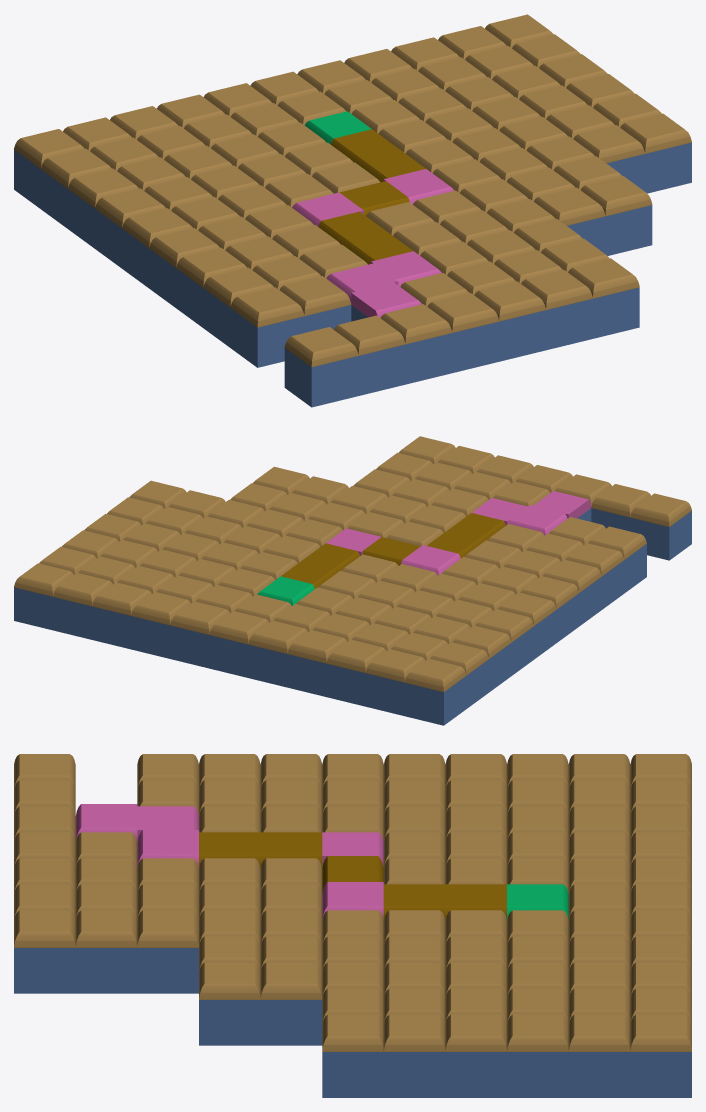
File: main_escenary.fbx
The picture shows the model from 3 angles, top to bottom: view 1: azimuth 30°, elevation 25°; view 2: azimuth 150°, elevation 25°; view 3: azimuth 270°, elevation 25°; orthographic projection. The views are drawn at different scales.
Visible parts, largest first — view 1: cubo_principal128, cubo_principal98, cubo_principal127, cubo_principal126, cubo_principal123, cubo_principal133, cubo_principal129, cubo_principal125, cubo_principal124, cubo_principal111, cubo_principal99, cubo_principal102 (+91 smaller); view 2: cubo_principal113, cubo_principal128, cubo_principal121, cubo_principal112, cubo_principal116, cubo_principal119, cubo_principal122, cubo_principal115, cubo_principal120, cubo_principal118, cubo_principal114, cubo_principal117 (+91 smaller); view 3: cubo_principal131, cubo_principal110, cubo_principal132, cubo_principal109, cubo_principal129, cubo_principal130, cubo_principal107, cubo_principal111, cubo_principal108, cubo_principal133, cubo_principal114, cubo_principal96 (+91 smaller).
Part boxes in pixels (x1,y1,x2,y2): cubo_principal128: [284, 327, 358, 407]; cubo_principal98: [230, 287, 304, 367]; cubo_principal127: [333, 315, 405, 395]; cubo_principal126: [380, 304, 452, 384]; cubo_principal123: [427, 292, 499, 372]; cubo_principal133: [580, 176, 652, 255]; cubo_principal129: [568, 258, 639, 338]; cubo_principal125: [521, 270, 592, 350]; cubo_principal124: [474, 281, 545, 361]; cubo_principal111: [620, 113, 691, 193]; cubo_principal99: [68, 168, 138, 248]; cubo_principal102: [203, 267, 273, 347]; cubo_principal113: [404, 658, 466, 725]; cubo_principal128: [630, 493, 691, 560]; cubo_principal121: [131, 592, 190, 658]; cubo_principal112: [326, 639, 386, 706]; cubo_principal116: [209, 611, 269, 677]; cubo_principal119: [92, 582, 151, 649]; cubo_principal122: [170, 601, 229, 668]; cubo_principal115: [248, 620, 307, 687]; cubo_principal120: [287, 630, 347, 696]; cubo_principal118: [365, 649, 425, 715]; cubo_principal114: [14, 563, 73, 630]; cubo_principal117: [53, 572, 112, 639]; cubo_principal131: [75, 910, 137, 993]; cubo_principal110: [383, 1014, 445, 1097]; cubo_principal132: [260, 962, 322, 1045]; cubo_principal109: [568, 1014, 630, 1097]; cubo_principal129: [14, 910, 75, 993]; cubo_principal130: [137, 910, 198, 993]; cubo_principal107: [507, 1014, 568, 1097]; cubo_principal111: [322, 1014, 383, 1097]; cubo_principal108: [445, 1014, 506, 1097]; cubo_principal133: [199, 962, 260, 1045]; cubo_principal114: [630, 1014, 691, 1097]; cubo_principal96: [75, 804, 137, 841].
Bounding box in the file's own units: 11 × 1.07 × 11.
